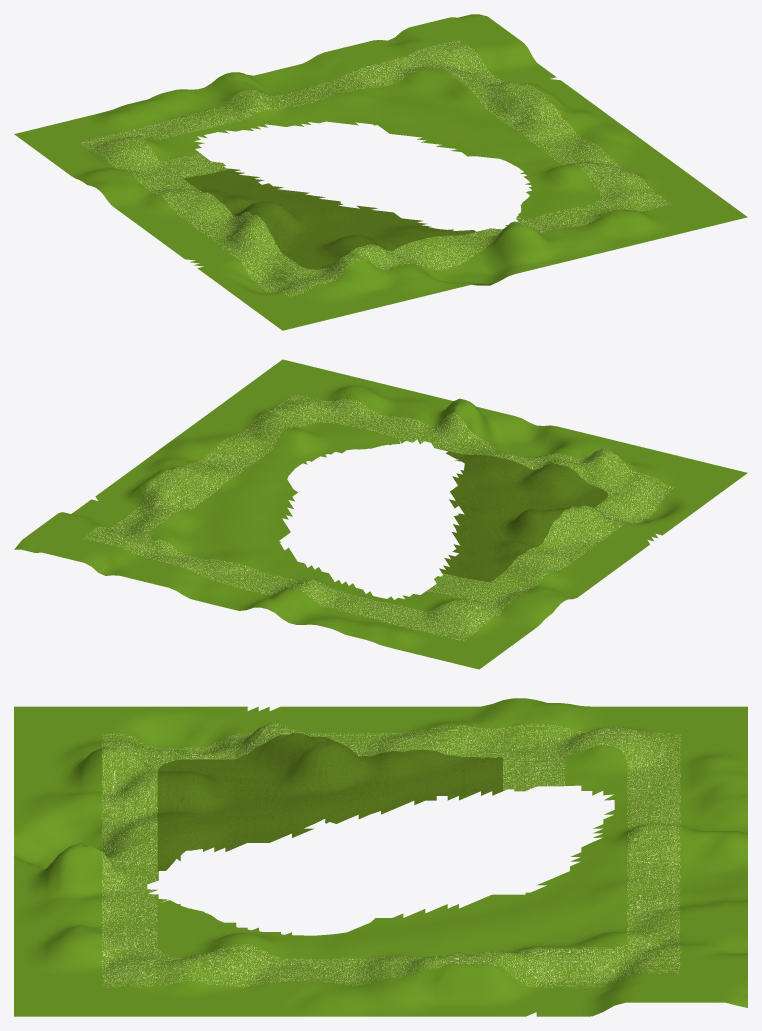
File: terrain.dae
The picture shows the model from 3 angles, top to bottom: view 1: azimuth 30°, elevation 25°; view 2: azimuth 150°, elevation 25°; view 3: azimuth 270°, elevation 25°; orthographic projection. The views are drawn at different scales.
Parts seen in each view (by area): view 1: group_0_001; view 2: group_0_001; view 3: group_0_001.
Boxes of the visible parts, <box> form: group_0_001: <box>14,14,747,330</box>; group_0_001: <box>14,359,747,669</box>; group_0_001: <box>14,698,747,1016</box>.
Bounding box in the file's own units: 7795 × 7795 × 591.
2 materials, 1 textured.
